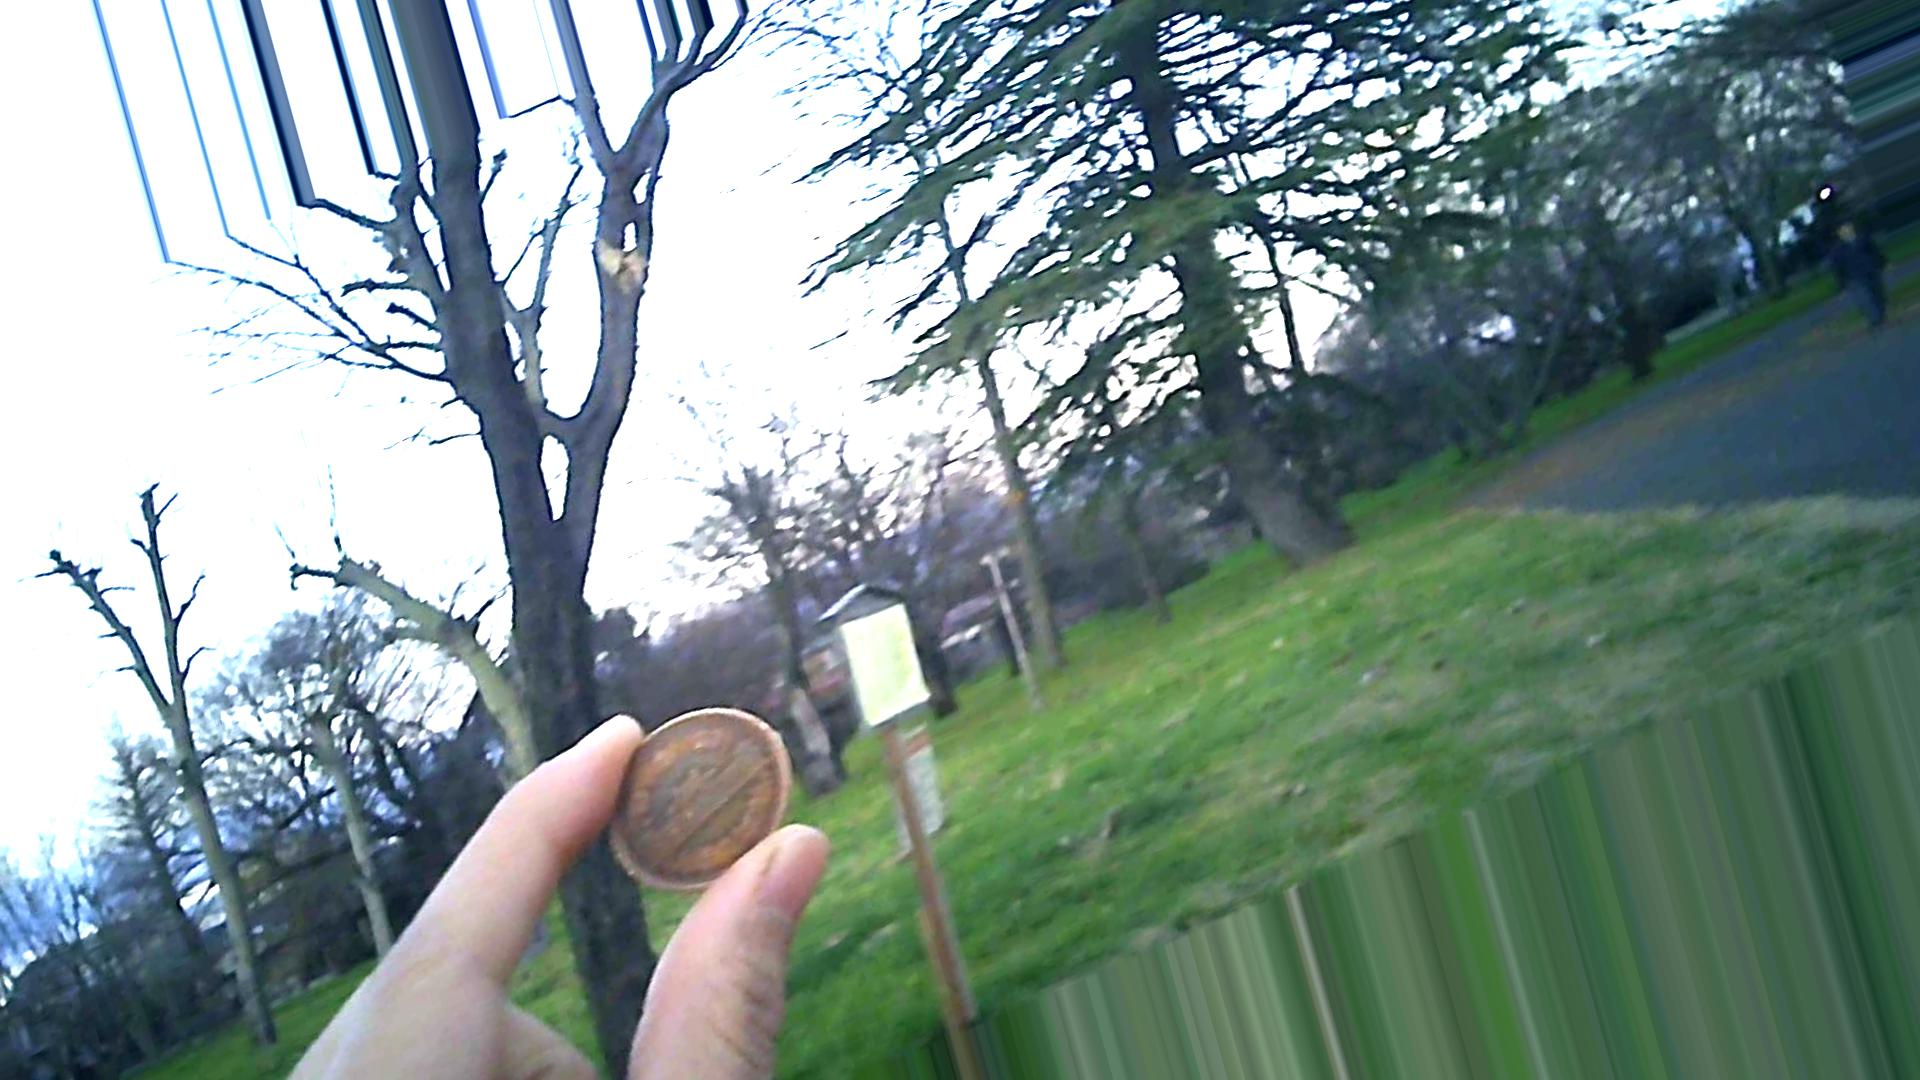10 Yen: (575, 688, 793, 891)
